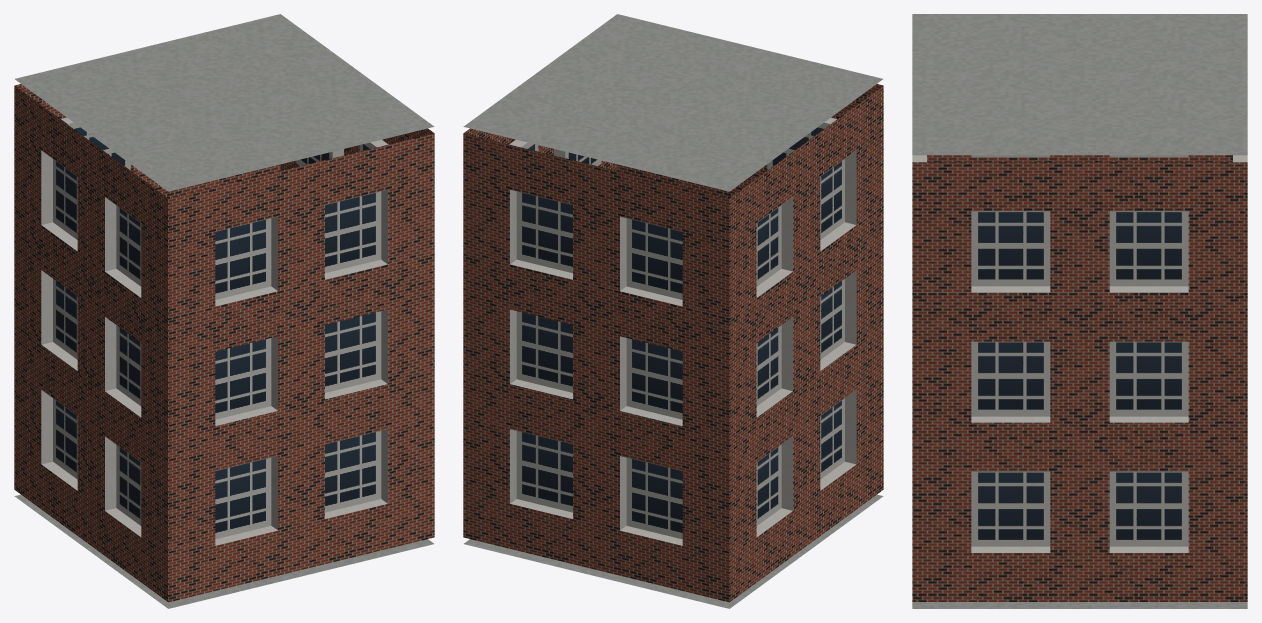
The model's file is bldg-row-brick-b.glb.
3 views of the same model, side by side, from view 1: azimuth 30°, elevation 25°; view 2: azimuth 150°, elevation 25°; view 3: azimuth 270°, elevation 25° (orthographic). The views are drawn at different scales.
Visible parts, largest first — view 1: bldg-row-brick-b; view 2: bldg-row-brick-b; view 3: bldg-row-brick-b.
Part boxes in pixels (x1,y1,x2,y2): bldg-row-brick-b: (14,14,434,608); bldg-row-brick-b: (463,14,883,608); bldg-row-brick-b: (912,14,1247,608).
Size of the model in its own units: 1.27 by 1.9 by 1.27.
4 materials, 4 textured.
